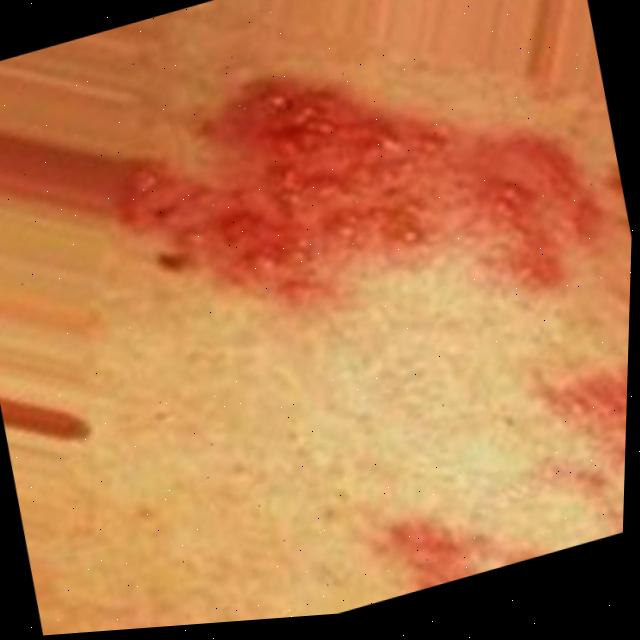Shingles: (136, 0, 579, 377), (378, 490, 505, 598), (547, 365, 625, 467)
